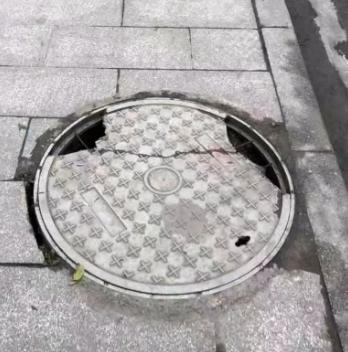wellcover: (30, 96, 305, 297)
